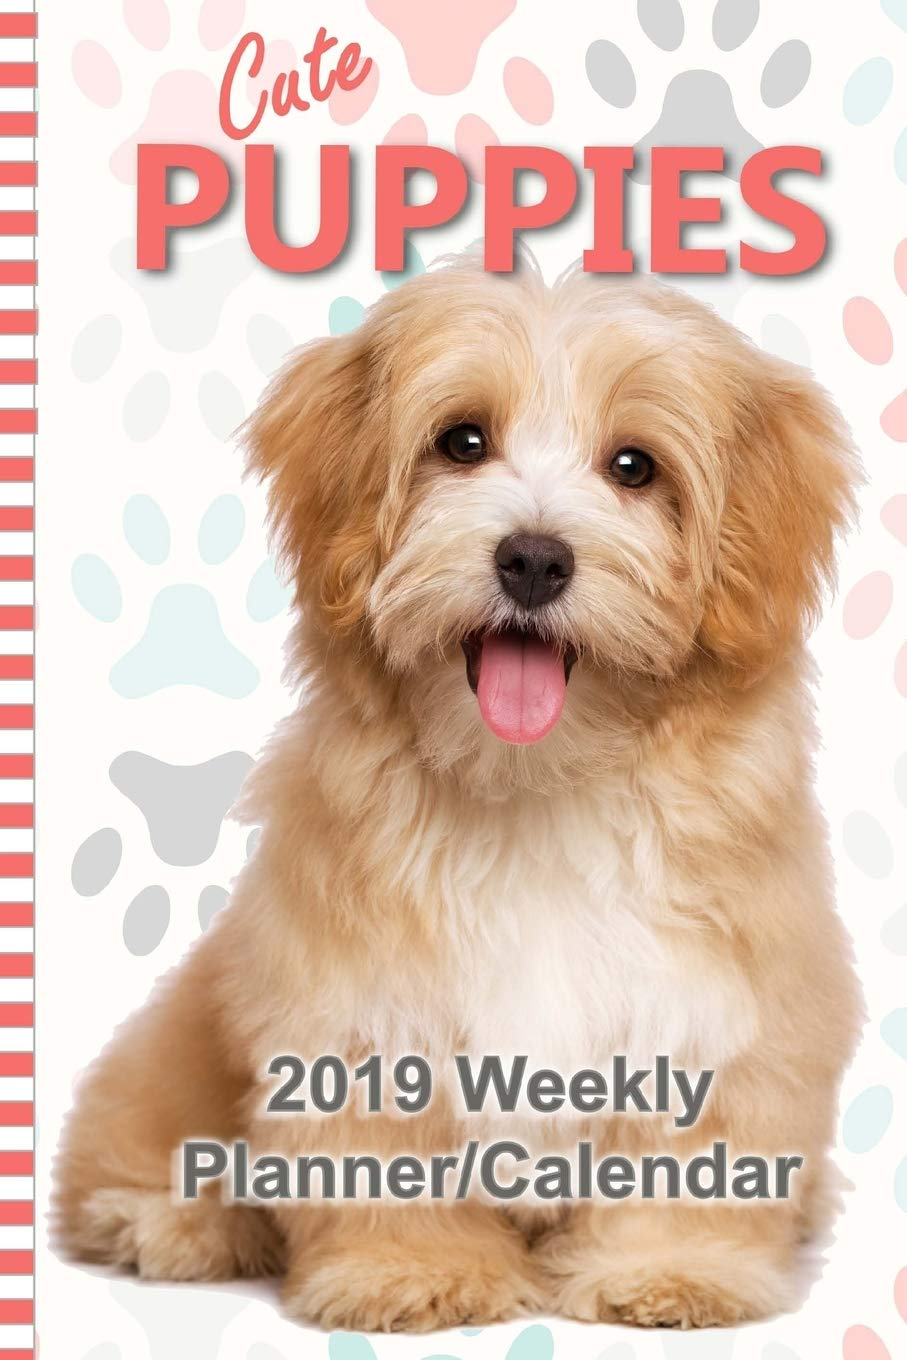dog: (105, 266, 869, 1321)
